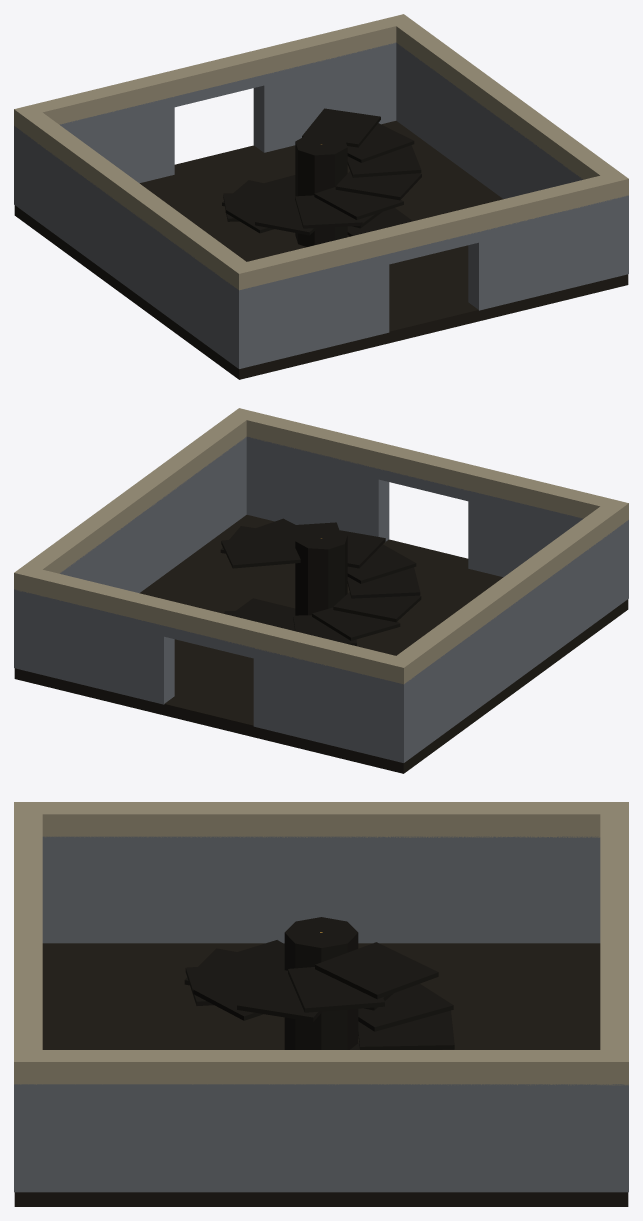
The model's file is CryptStairwell.fbx.
3 renders of one model, top to bottom at view 1: azimuth 30°, elevation 25°; view 2: azimuth 150°, elevation 25°; view 3: azimuth 270°, elevation 25°, orthographic. The views are drawn at different scales.
Visible parts, largest first — view 1: CryptStairwell; view 2: CryptStairwell; view 3: CryptStairwell.
Boxes of the visible parts, x1=… form: CryptStairwell: x1=14, y1=14, x2=628, y2=379; CryptStairwell: x1=14, y1=408, x2=628, y2=773; CryptStairwell: x1=14, y1=802, x2=628, y2=1206.
Size of the model in its own units: 1122 by 292 by 1122.
Materials: 5 (5 with a texture image).
